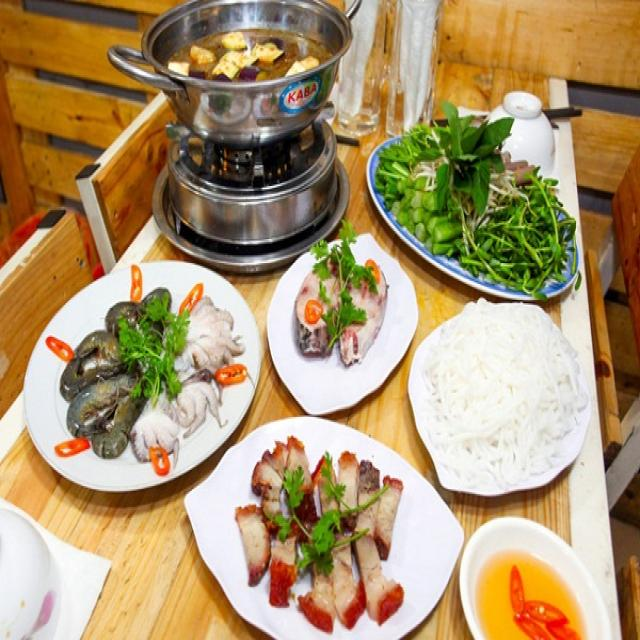bach tuoc song: (166, 284, 231, 471)
bun: (426, 310, 586, 490)
ca song: (291, 251, 389, 368)
heo quay: (232, 436, 420, 637)
mam ot: (466, 524, 611, 640)
nuoc lau thai: (146, 5, 353, 126)
tom song: (64, 272, 128, 460)
